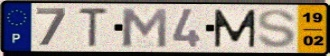4: (170, 7, 202, 50)
7: (34, 6, 70, 48)
M: (119, 7, 169, 49), (212, 8, 258, 49)
S: (256, 8, 298, 50)
T: (76, 6, 110, 49)
